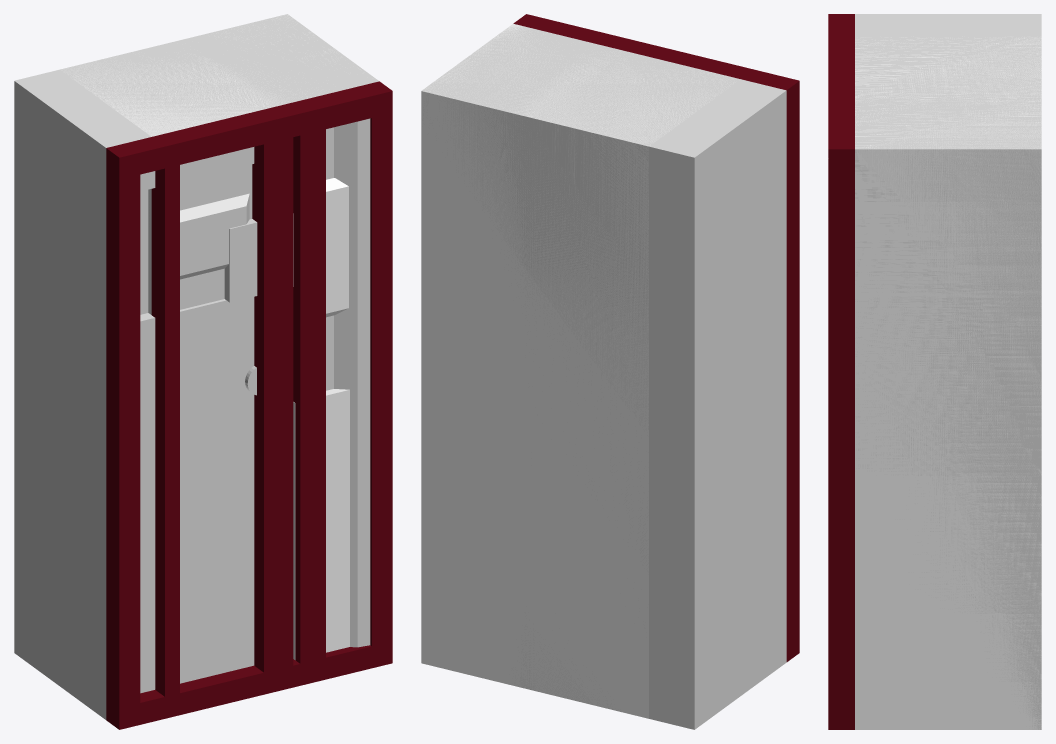
Rendered from PH_DISJONCTEUR_100x300_ - Copy.fbx.
3 renders of one model, left to right at view 1: azimuth 30°, elevation 25°; view 2: azimuth 150°, elevation 25°; view 3: azimuth 270°, elevation 25°, orthographic.
Parts seen in each view (by area): view 1: 001, 003, 002; view 2: 001, 003; view 3: 003, 001, 002.
Part boxes in pixels (x1,y1,x2,y2): 001: [14, 14, 392, 729]; 003: [61, 15, 391, 696]; 002: [180, 118, 370, 647]; 001: [421, 14, 799, 729]; 003: [421, 14, 753, 718]; 003: [828, 36, 1041, 729]; 001: [828, 14, 1041, 729]; 002: [924, 149, 1041, 591].
Bounding box in the file's own units: 150 × 300 × 100.
